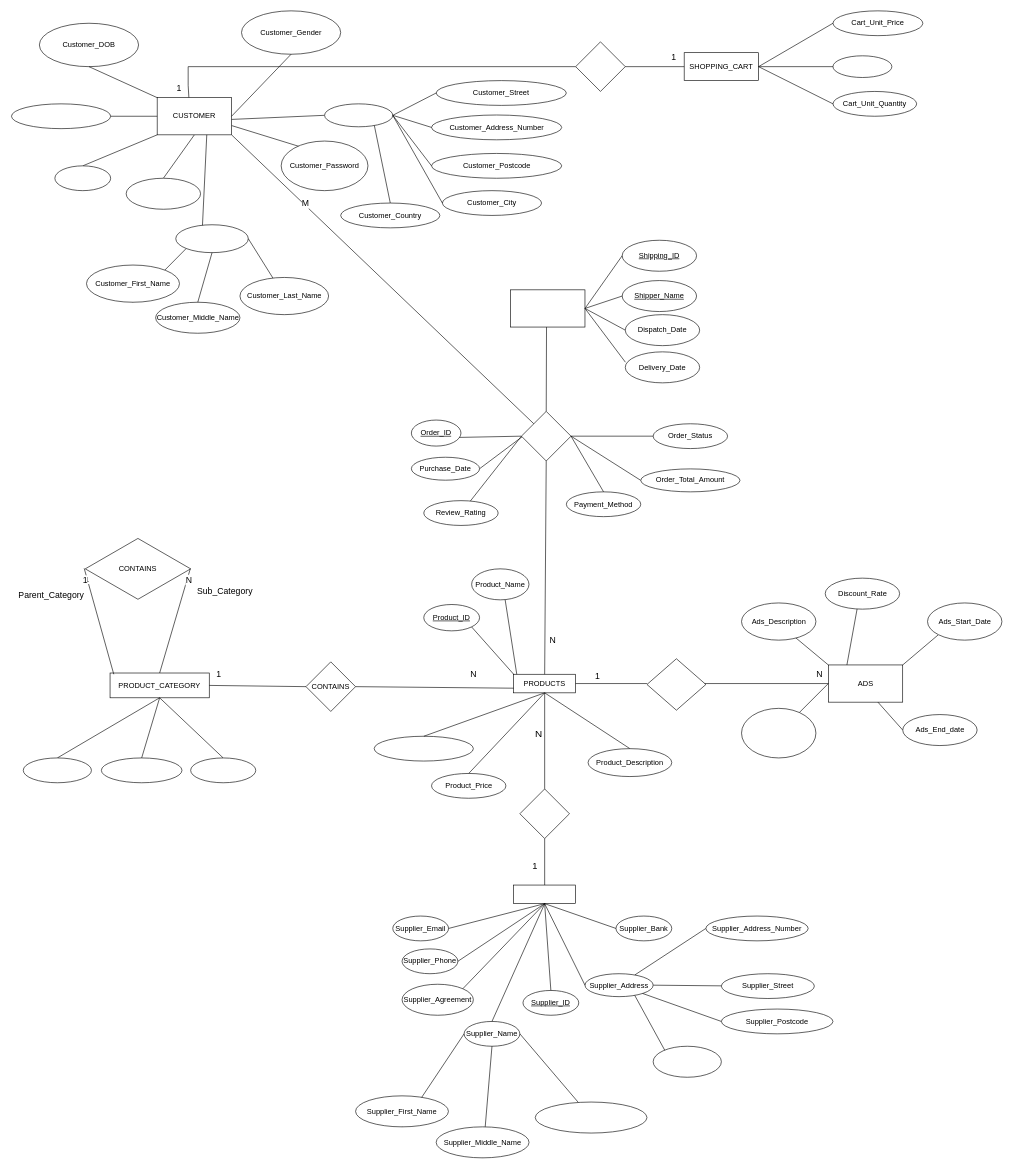
Some shapes in this 1012 by 1169 pixel diagram are drawn without their labels. The centre of each missing label's shape, as x and y in pixels:
"Ads_ID" belongs at (778,733).
"Cart_ID" belongs at (862,66).
"Category_ID" belongs at (57,770).
"Category_Name" belongs at (223,770).
"Customer_Address" belongs at (358,115).
"Customer_Email" belongs at (163,193).
"Customer_ID" belongs at (82,178).
"Customer_Name" belongs at (211,238).
"Customer_Phone_Number" belongs at (61,116).
"HAS" belongs at (600,66).
"ORDERS" belongs at (546,436).
"Parent_Category_ID" belongs at (141,770).
"Product_Qty_Available" belongs at (423,748).
"PROMOTES" belongs at (676,684).
"SHIPPING" belongs at (547,308).
"SUPPLIER" belongs at (544,894).
"Supplier_Country" belongs at (687,1061).
"Supplier_Last_Name" belongs at (591,1117).
"SUPPLY" belongs at (544,813).
